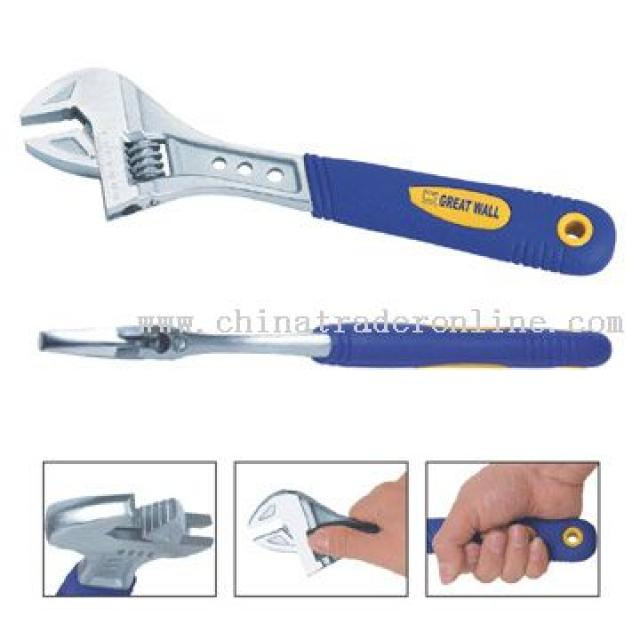wrench: (12, 43, 612, 280)
